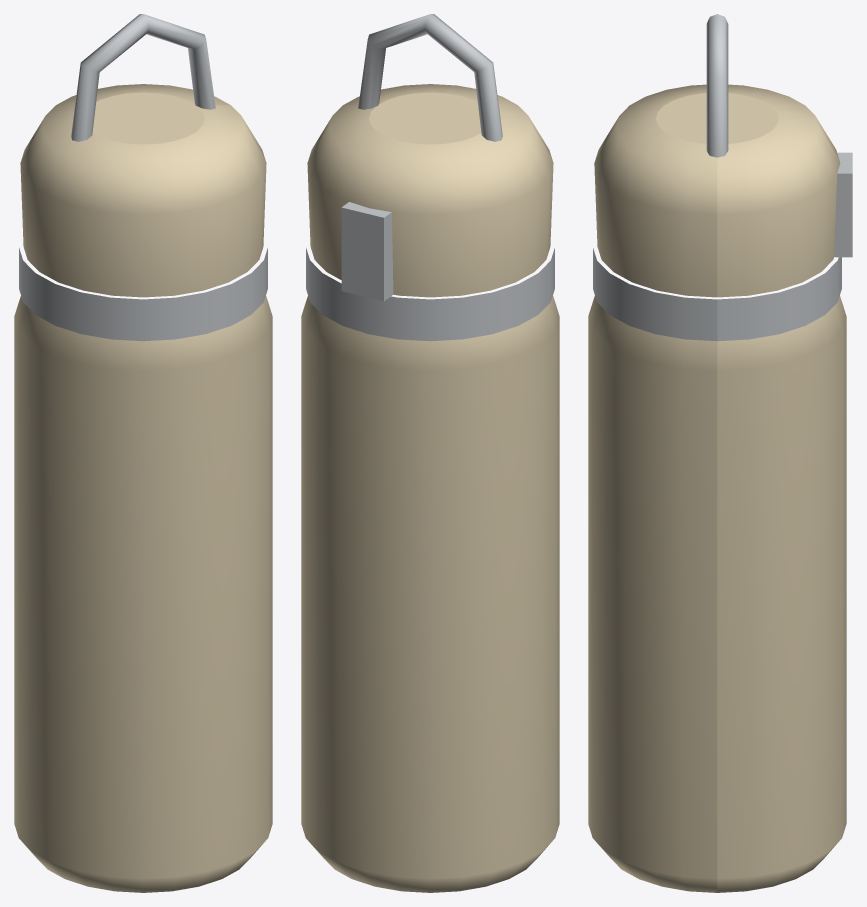
File: water_bottle.glb
The picture shows the model from 3 angles, left to right: view 1: azimuth 30°, elevation 25°; view 2: azimuth 150°, elevation 25°; view 3: azimuth 270°, elevation 25°; orthographic projection.
Visible parts, largest first — view 1: WaterBottle; view 2: WaterBottle; view 3: WaterBottle.
Boxes of the visible parts, left/top/right/bottom form: WaterBottle: left=14, top=14, right=272, bottom=892; WaterBottle: left=301, top=14, right=559, bottom=892; WaterBottle: left=588, top=14, right=852, bottom=892.
Bounding box in the file's own units: 0.084 × 0.2985 × 0.086.
